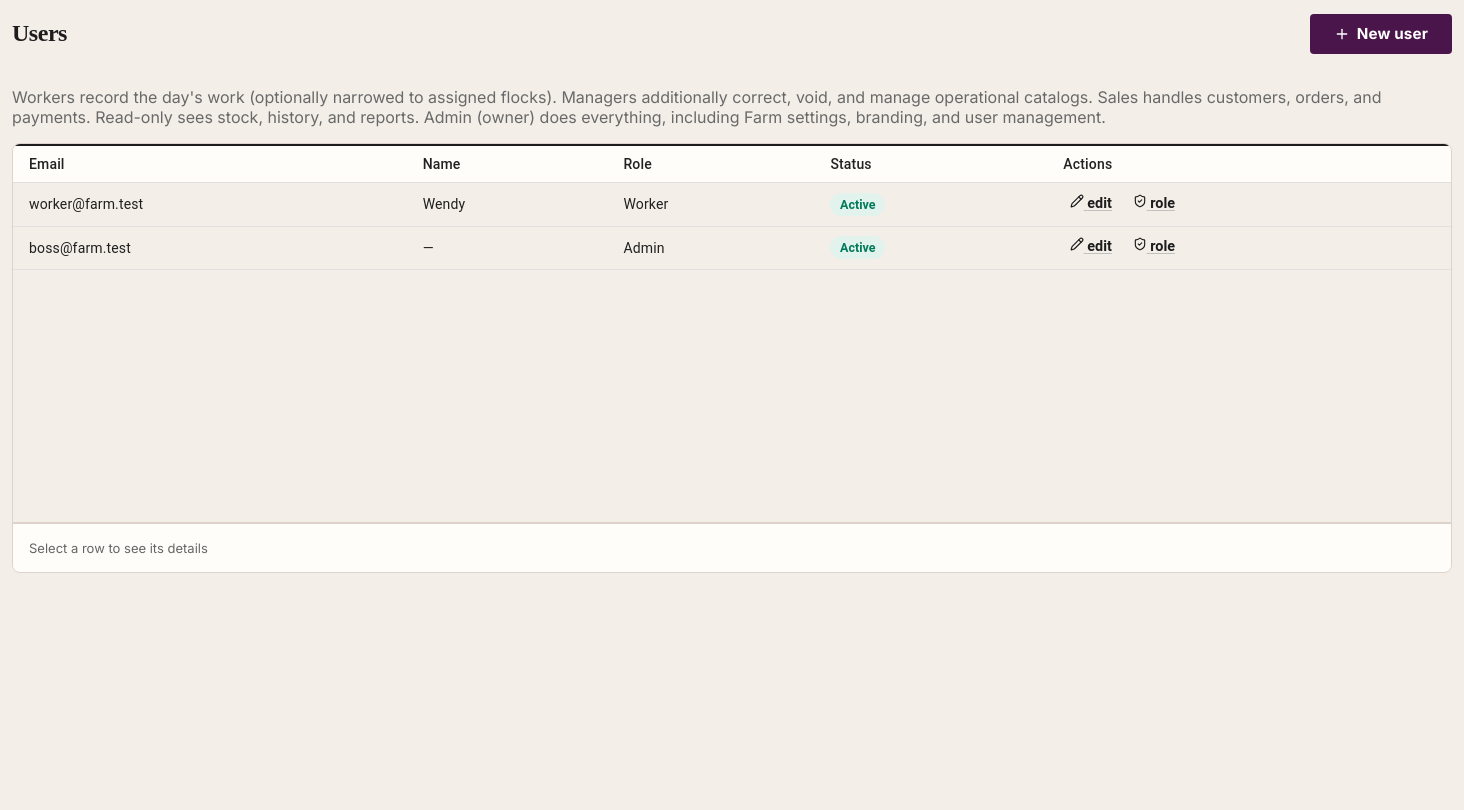
Scenario: UsersPage selected-record inspector (#908) › shows a prompt before any row is selected, then fills in on click
Expected: the text "worker@farm.test" is shown, x1=13 y1=183 x2=407 y2=226
Expected: the text "Select a row to see its details" is shown, x1=29 y1=540 x2=208 y2=556
Click the row "worker@farm.test Wendy Worker Active edit role": (732, 204) x1=13 y1=183 x2=1451 y2=226
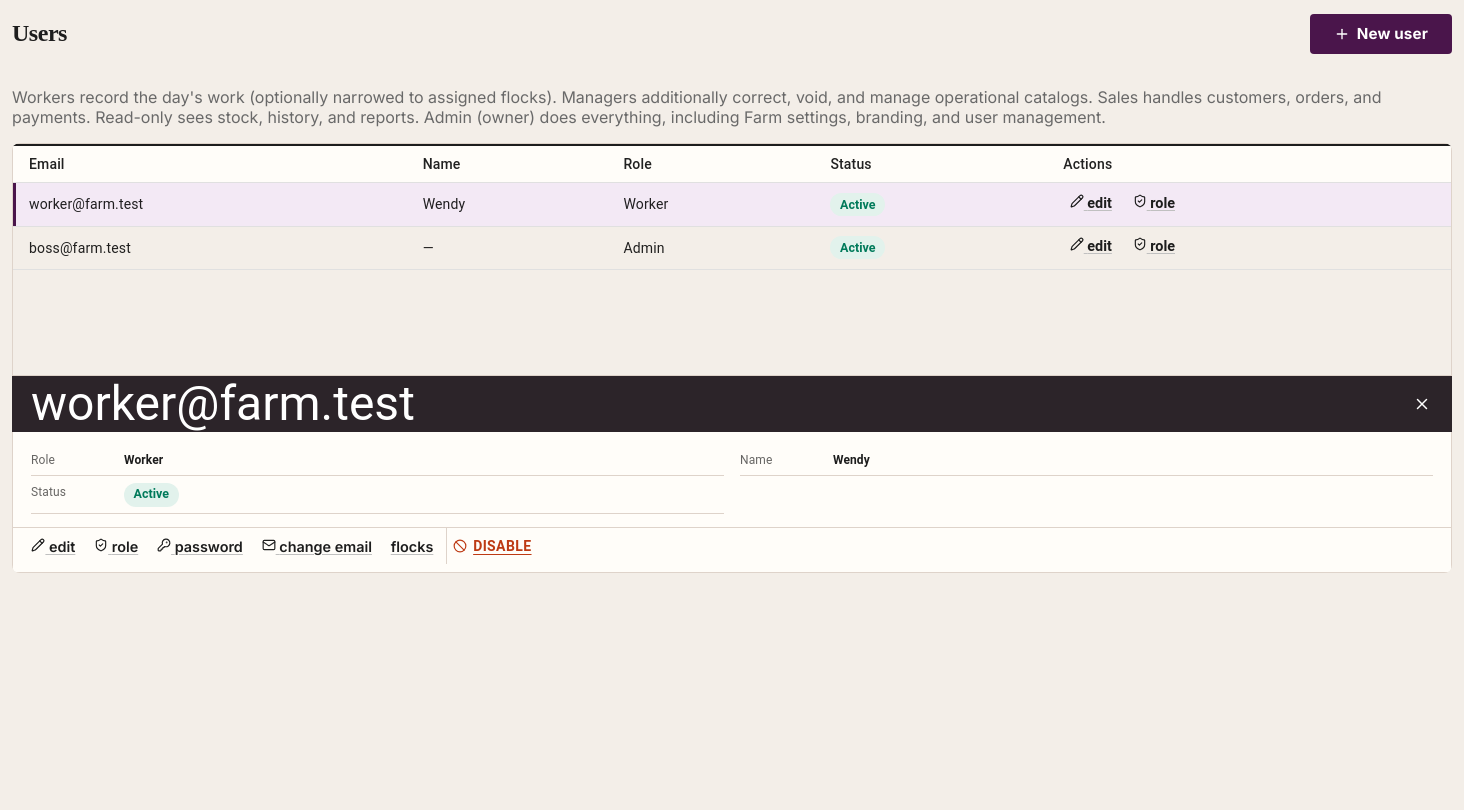
Expected: the heading "worker@farm.test" is shown, x1=31 y1=376 x2=415 y2=432
Expected: the text "Wendy" is shown, x1=833 y1=453 x2=870 y2=467
Expected: the text "Worker" is shown, x1=124 y1=453 x2=163 y2=467
